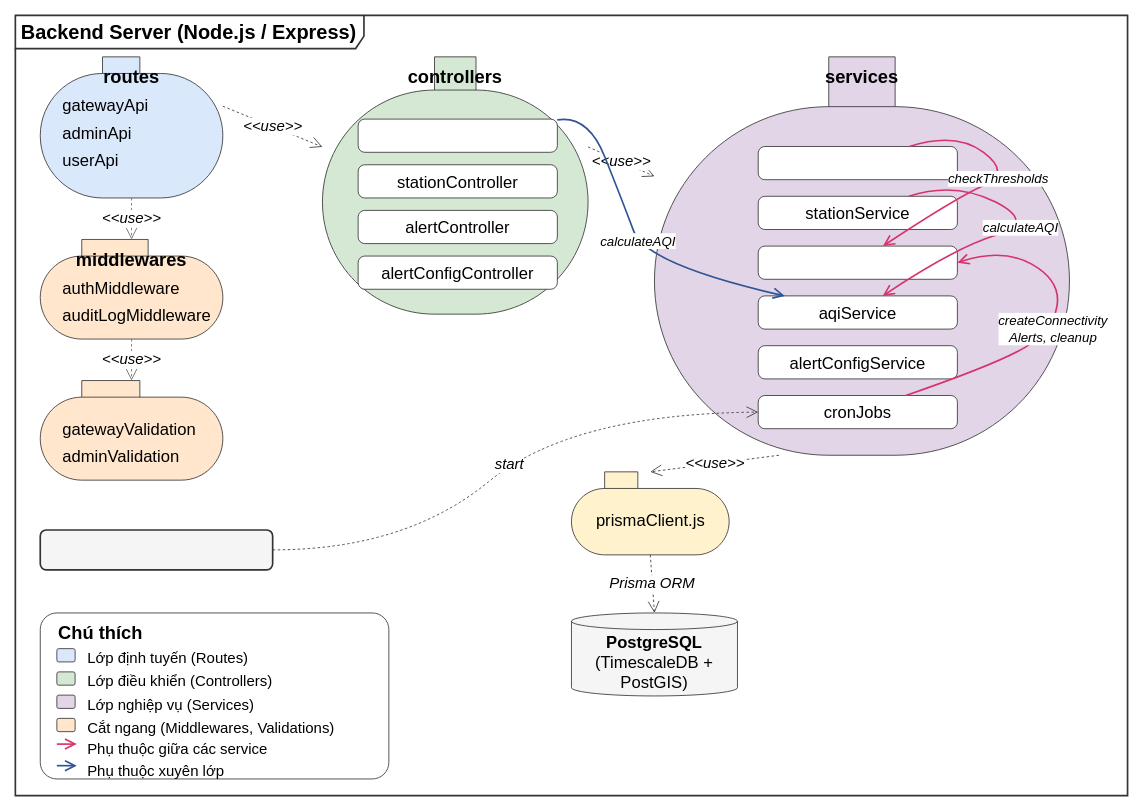
Some shapes in this 1142 by 810 pixel diagram are drawn without their labels. The shapes that lost their labels are listed below. From the top down, each one's box as (x1, y1, x2, y2) in pixels, then its label:
(357, 118, 557, 152): telemetryController
(757, 146, 957, 180): telemetryService
(757, 245, 957, 279): alertService
(39, 380, 223, 480): validations
(571, 471, 729, 555): config
(39, 529, 273, 570): server.js (Express + Socket.IO)
